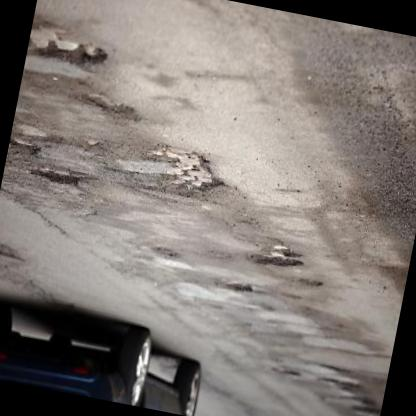pothole: (141, 138, 230, 200), (24, 25, 112, 81), (245, 233, 306, 274), (7, 119, 52, 158), (31, 163, 85, 192), (0, 236, 25, 264), (221, 278, 254, 296)
